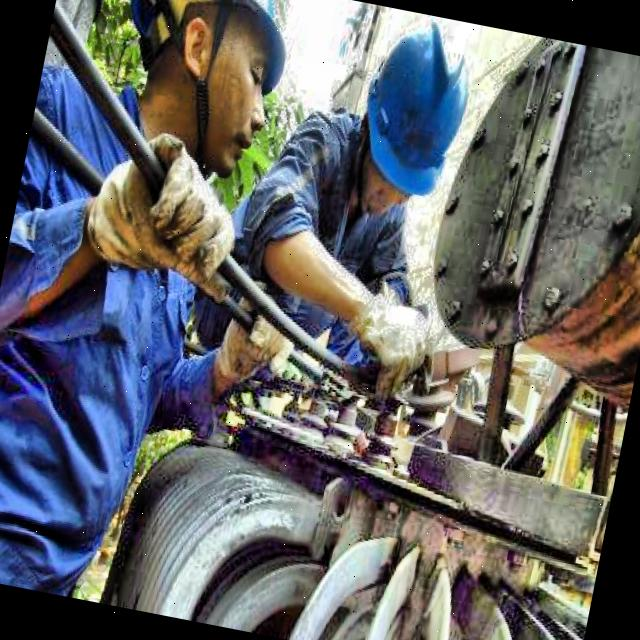helmet: (119, 0, 322, 195), (335, 10, 486, 232)
